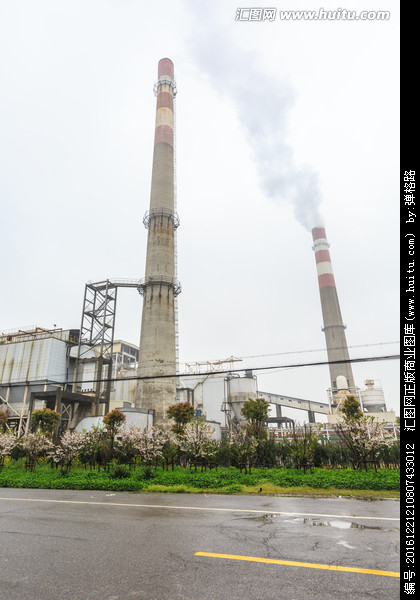dust: (241, 90, 343, 248)
